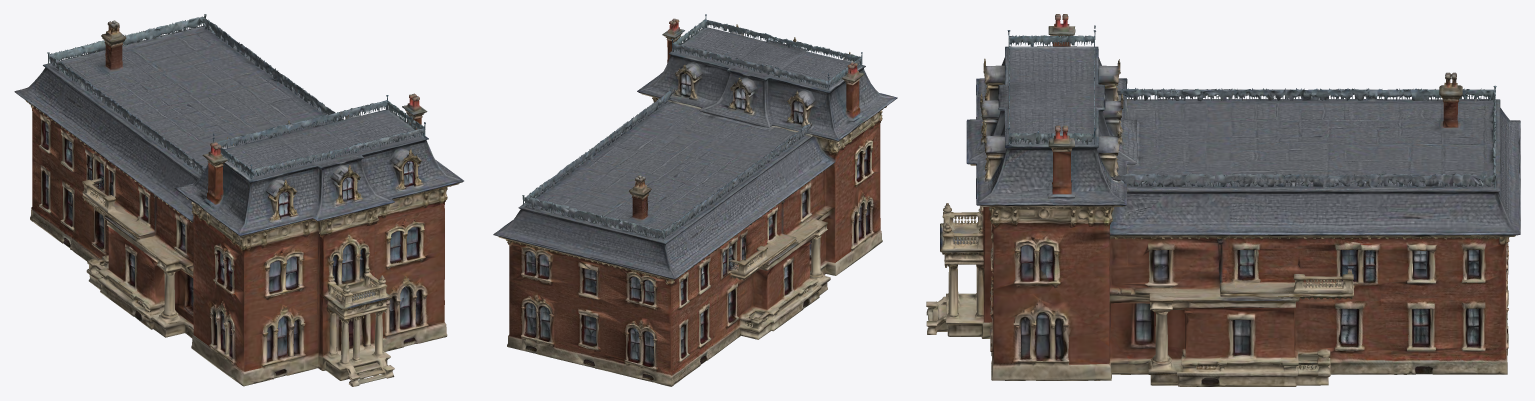
The model's file is rockefeller.glb.
The picture shows the model from 3 angles, left to right: view 1: azimuth 30°, elevation 25°; view 2: azimuth 150°, elevation 25°; view 3: azimuth 270°, elevation 25°; orthographic projection. The views are drawn at different scales.
Parts seen in each view (by area): view 1: tripo_node_62019eca-95da-45ea-842a-122108d4e0fa; view 2: tripo_node_62019eca-95da-45ea-842a-122108d4e0fa; view 3: tripo_node_62019eca-95da-45ea-842a-122108d4e0fa.
Part boxes in pixels (<box>): tripo_node_62019eca-95da-45ea-842a-122108d4e0fa: <box>14,14,463,386</box>; tripo_node_62019eca-95da-45ea-842a-122108d4e0fa: <box>493,14,897,386</box>; tripo_node_62019eca-95da-45ea-842a-122108d4e0fa: <box>926,14,1520,386</box>.
Bounding box in the file's own units: 0.5039 × 0.4593 × 0.9797.
1 material, 1 textured.
